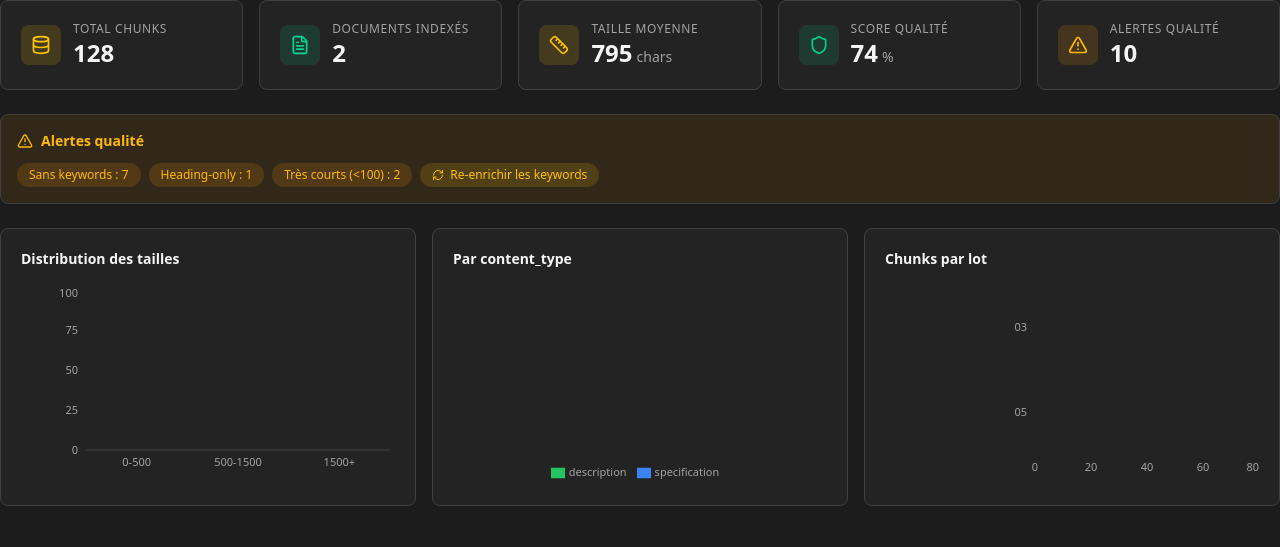
Test: StatsOverview — a failed load says so instead of rendering nothing › shows the enrichment report when the mutation succeeded
Click the button "Re-enrichir les keywords".
click(510, 175)  # box [420,163,599,187]
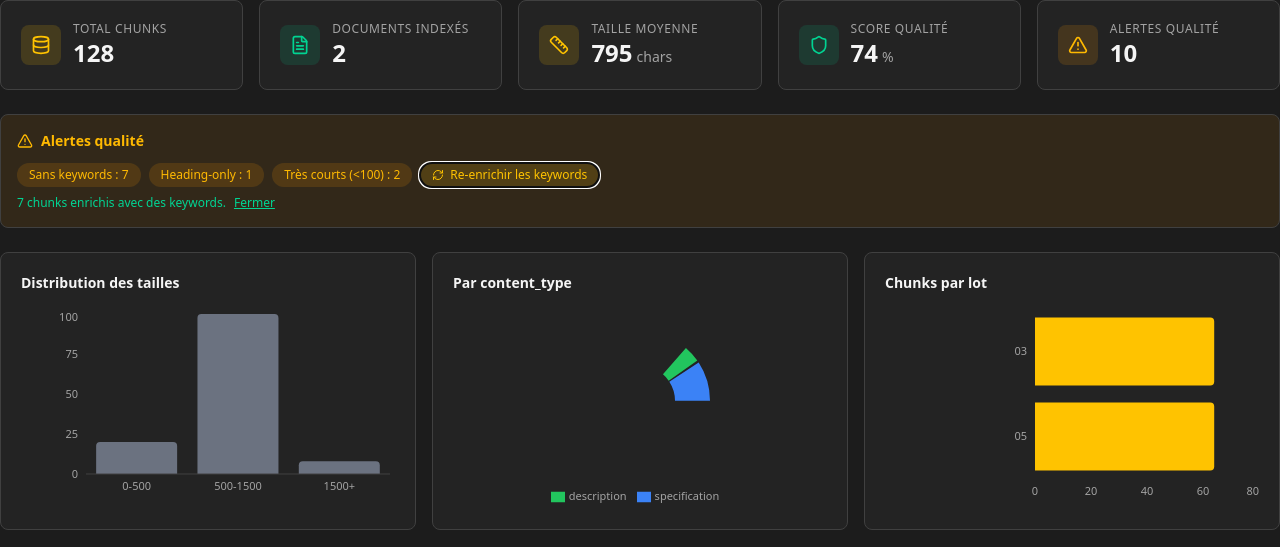
Expected: the text "7 chunks enrichis avec des keywords. Fermer" is shown, [17,194,275,211]
